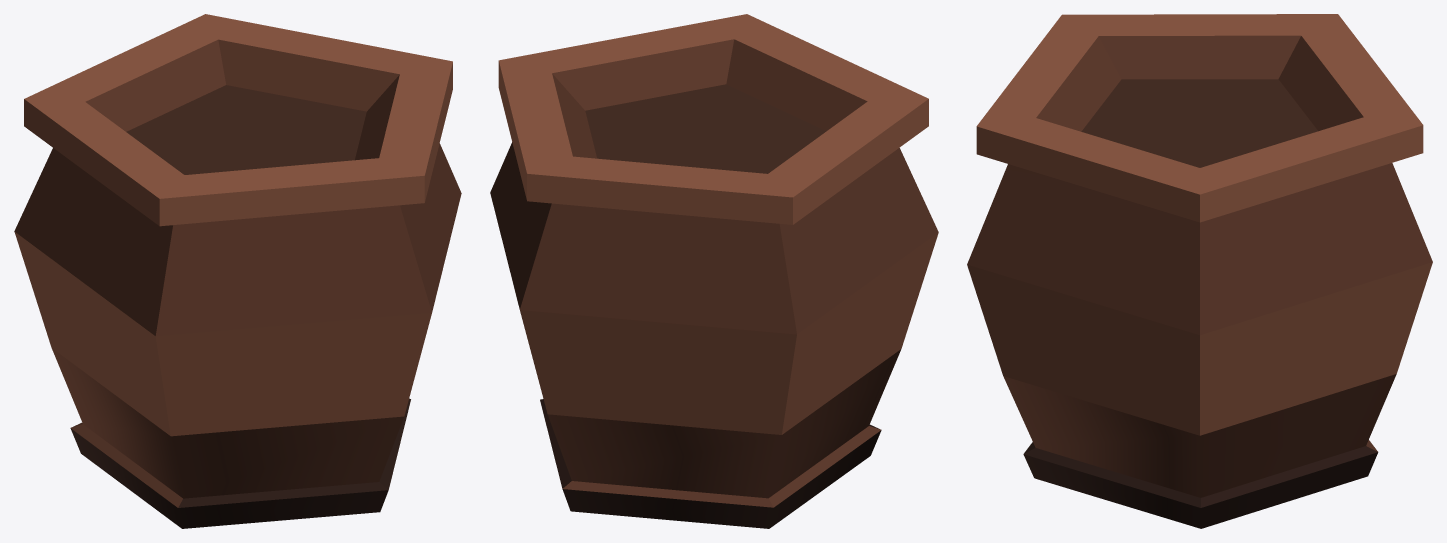
The model's file is flowerpot00.fbx.
The picture shows the model from 3 angles, left to right: view 1: azimuth 30°, elevation 25°; view 2: azimuth 150°, elevation 25°; view 3: azimuth 270°, elevation 25°; orthographic projection.
Visible parts, largest first — view 1: flowerpot00; view 2: flowerpot00; view 3: flowerpot00.
Part boxes in pixels (x1,y1,x2,y2): flowerpot00: [14, 14, 461, 528]; flowerpot00: [490, 14, 938, 528]; flowerpot00: [967, 14, 1432, 528].
Bounding box in the file's own units: 11.15 × 10.03 × 11.72.
